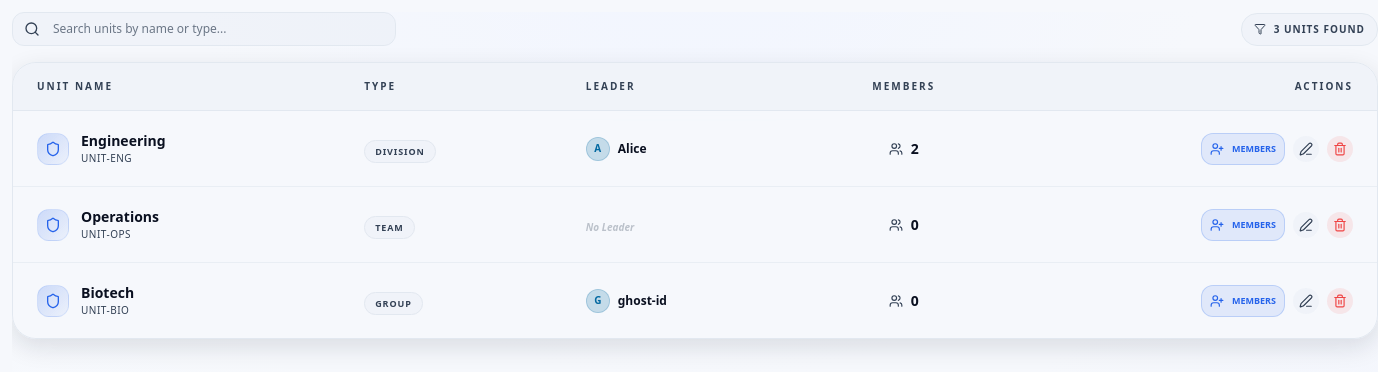
Test case: OrgUnitTable › renders empty-state row when no rows match the filter
This screenshot has width=1378, height=372.
Step 1. Type "no-match-xyz" into the field with placeholder "Search units by name or type..." → (204, 29), box [12,12,396,46]
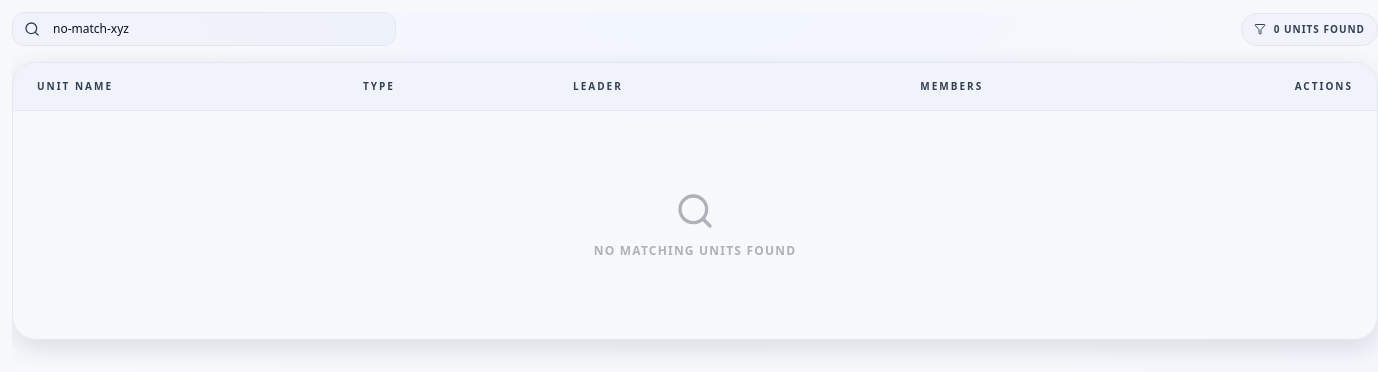
Expected: the text "No matching units found" is shown, [594,243,796,259]
Expected: the text "0 units found" is shown, [1241,12,1377,46]
